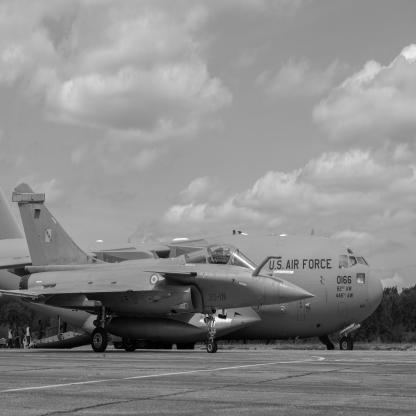C17: (1, 183, 384, 351)
Rafale: (1, 183, 317, 354)
